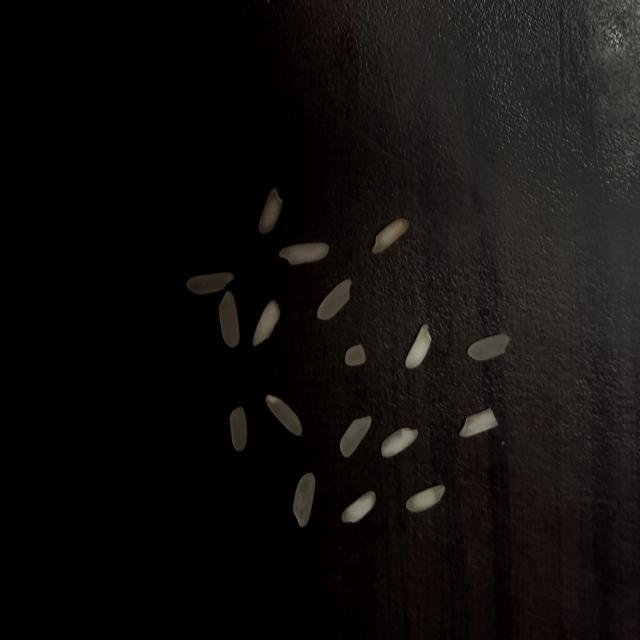Broken: (459, 408, 499, 438), (230, 407, 247, 451), (345, 344, 366, 366)
Full: (266, 394, 302, 436), (317, 279, 353, 320), (340, 416, 372, 458), (371, 218, 409, 253), (253, 300, 280, 346), (219, 290, 240, 348), (405, 324, 432, 369), (293, 473, 315, 527), (279, 242, 329, 265), (186, 272, 235, 295), (342, 491, 376, 523), (382, 428, 418, 458), (468, 334, 509, 360), (258, 189, 282, 233), (406, 485, 445, 512)
